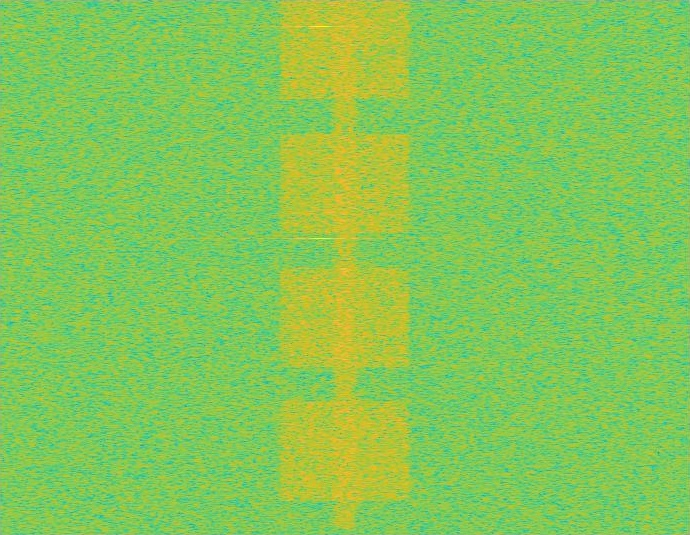5G: (276, 0, 414, 534)
DSSS: (329, 0, 361, 534)
Radar: (314, 0, 328, 534)
